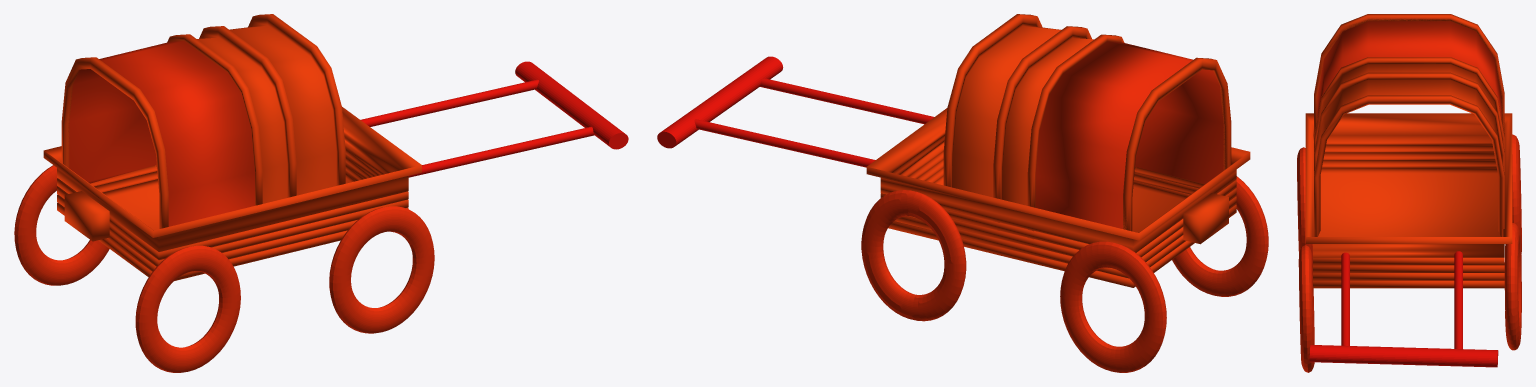
Rendered from CART1.fbx.
3 views of the same model, side by side, from view 1: azimuth 30°, elevation 25°; view 2: azimuth 150°, elevation 25°; view 3: azimuth 270°, elevation 25° (orthographic). The views are drawn at different scales.
Parts seen in each view (by area): view 1: Plane.001, Torus.004, Cylinder; view 2: Plane.001, Torus.004, Cylinder; view 3: Plane.001, Torus.004, Cylinder.
Part boxes in pixels (x1,y1,x2,y2): Plane.001: (43,14,421,280); Torus.004: (14,165,434,372); Cylinder: (361,61,628,177); Plane.001: (866,14,1250,287); Torus.004: (861,176,1268,372); Cylinder: (657,56,933,167); Plane.001: (1305,14,1512,288); Torus.004: (1297,134,1521,372); Cylinder: (1309,251,1498,367).
Bounding box in the file's own units: 2642 × 1338 × 1068.
